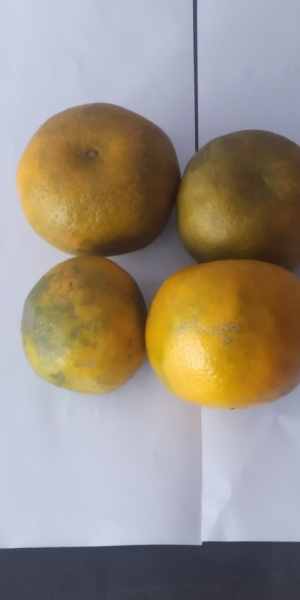BAD: (17, 103, 180, 259), (147, 262, 300, 413), (21, 259, 146, 394), (181, 131, 300, 268)
